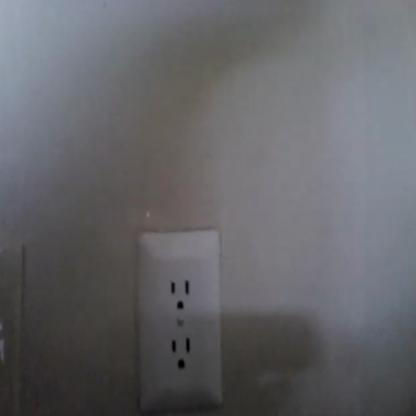OUTLET: (136, 231, 223, 410)
